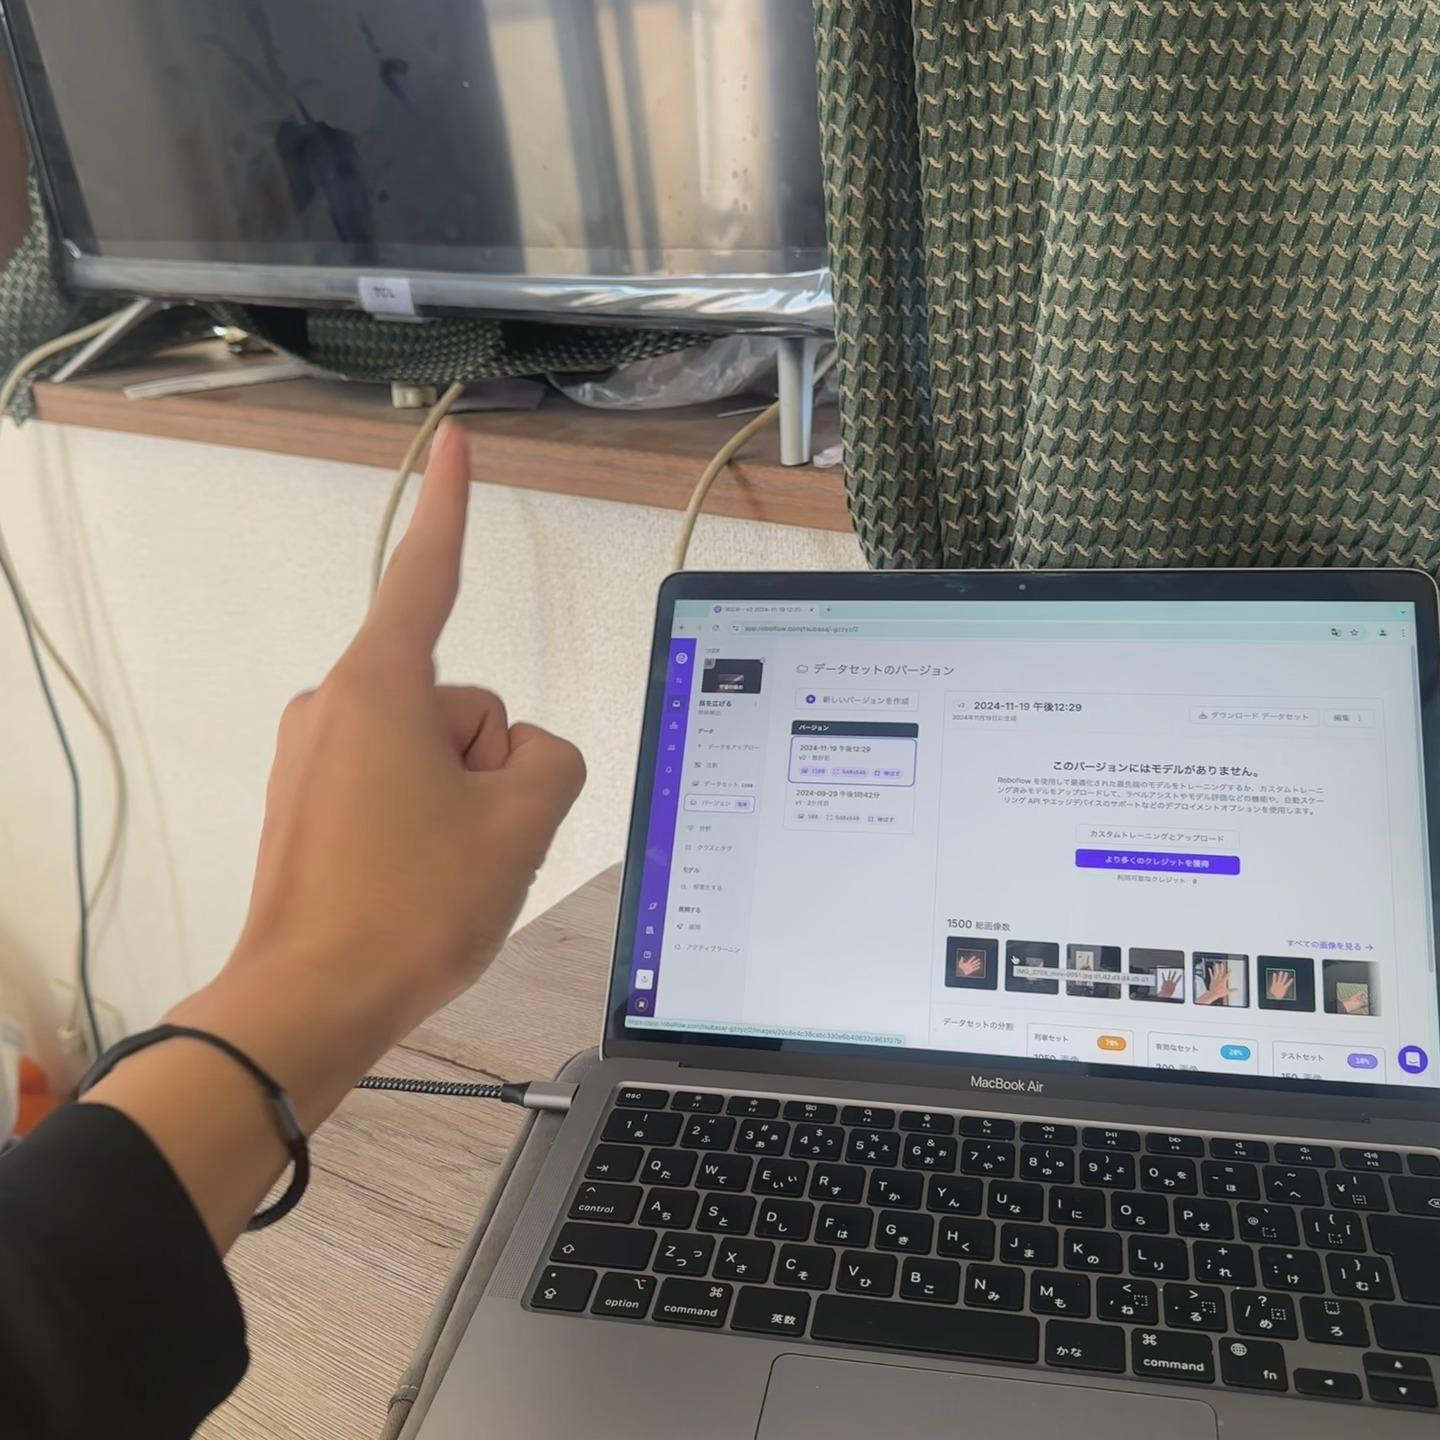without_gloves: (128, 215, 818, 1015)
